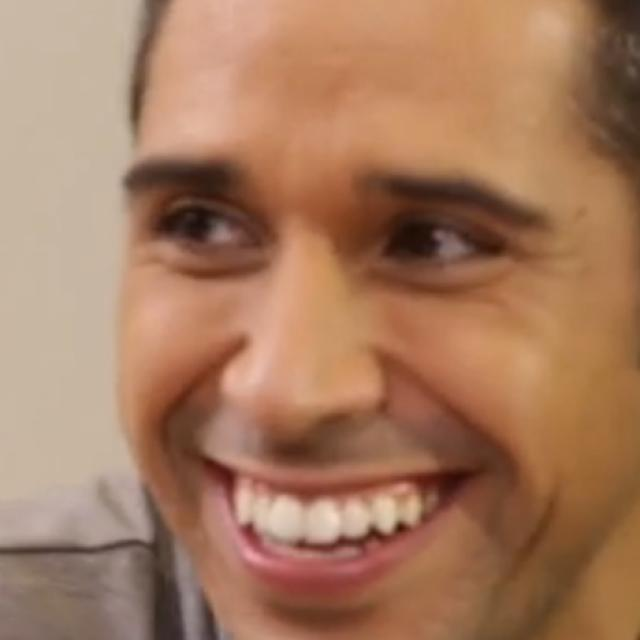Normal: (116, 5, 639, 638)
